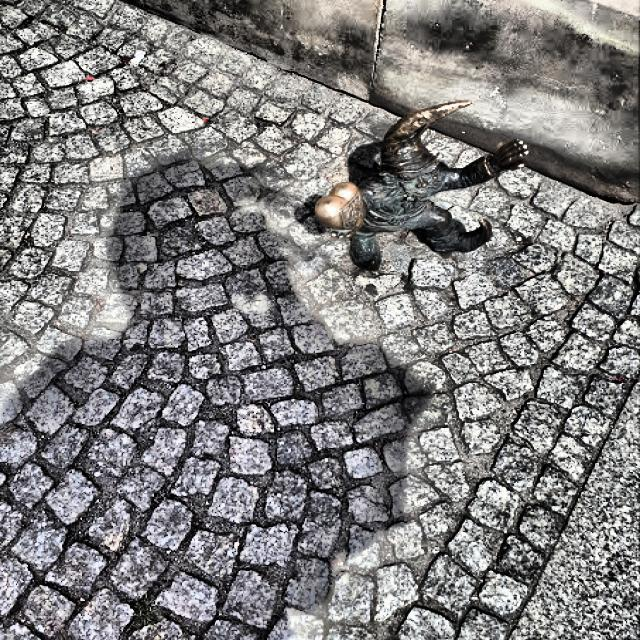WrocLovek: (310, 98, 534, 276)
